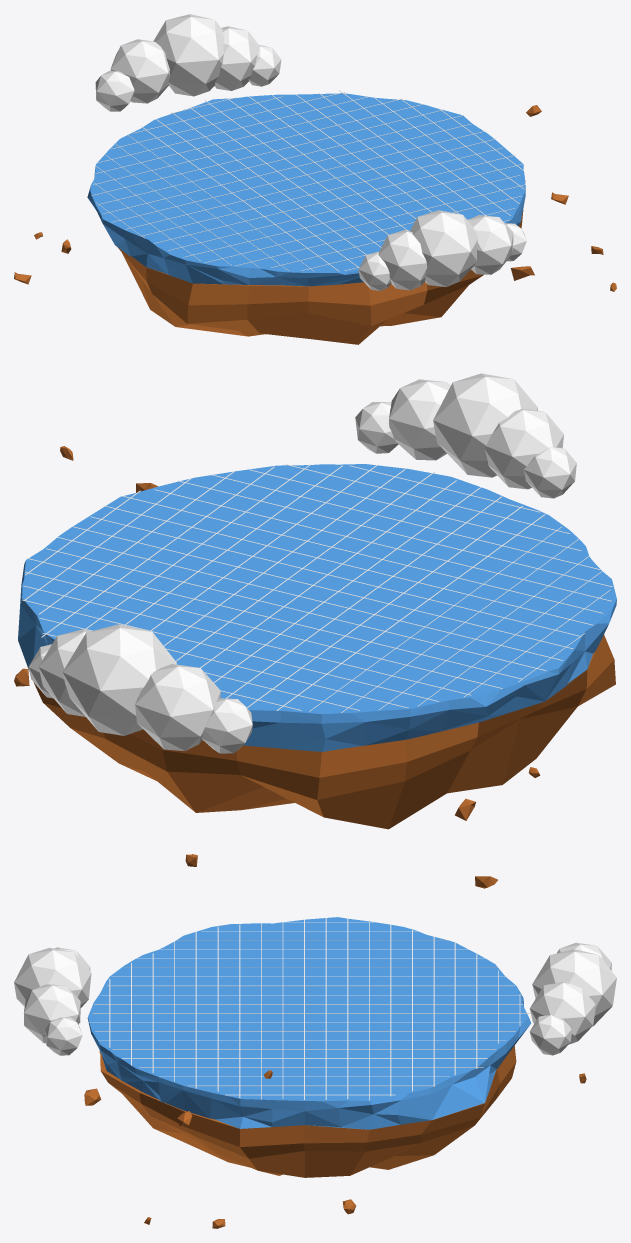
File: island_game.fbx
The picture shows the model from 3 angles, top to bottom: view 1: azimuth 30°, elevation 25°; view 2: azimuth 150°, elevation 25°; view 3: azimuth 270°, elevation 25°; orthographic projection. The views are drawn at different scales.
Visible parts, largest first — view 1: sea_trans__083D8A, island__873B08, cloud_0__FFFFFF, line__FFFFFF, cloud_1__FFFFFF, rock__873B08; view 2: sea_trans__083D8A, island__873B08, cloud_0__FFFFFF, line__FFFFFF, cloud_1__FFFFFF, rock__873B08; view 3: sea_trans__083D8A, island__873B08, line__FFFFFF, cloud_0__FFFFFF, cloud_1__FFFFFF, rock__873B08.
Boxes of the visible parts, box(x1,y1,x2,y2) form: sea_trans__083D8A: box(87, 93, 525, 286); island__873B08: box(117, 209, 523, 344); cloud_0__FFFFFF: box(95, 14, 281, 111); line__FFFFFF: box(91, 90, 525, 271); cloud_1__FFFFFF: box(358, 210, 526, 290); rock__873B08: box(14, 105, 616, 291); sea_trans__083D8A: box(18, 464, 616, 751); island__873B08: box(33, 635, 615, 829); cloud_0__FFFFFF: box(28, 624, 252, 753); line__FFFFFF: box(22, 464, 612, 713); cloud_1__FFFFFF: box(355, 373, 576, 498); rock__873B08: box(14, 446, 540, 888); sea_trans__083D8A: box(87, 917, 531, 1129); island__873B08: box(99, 1046, 516, 1177); line__FFFFFF: box(88, 918, 530, 1100); cloud_0__FFFFFF: box(529, 942, 616, 1055); cloud_1__FFFFFF: box(14, 947, 91, 1055); rock__873B08: box(84, 1070, 586, 1228).
Size of the model in its own units: 1852 by 819 by 2066.
